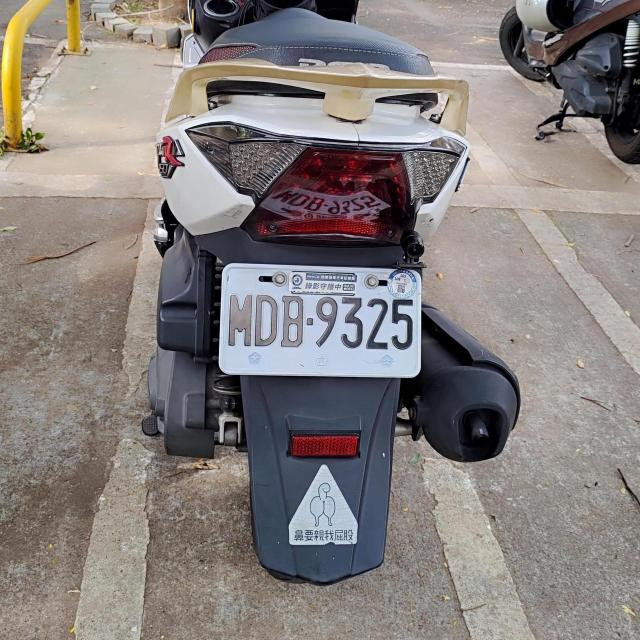W: (216, 264, 421, 378)
